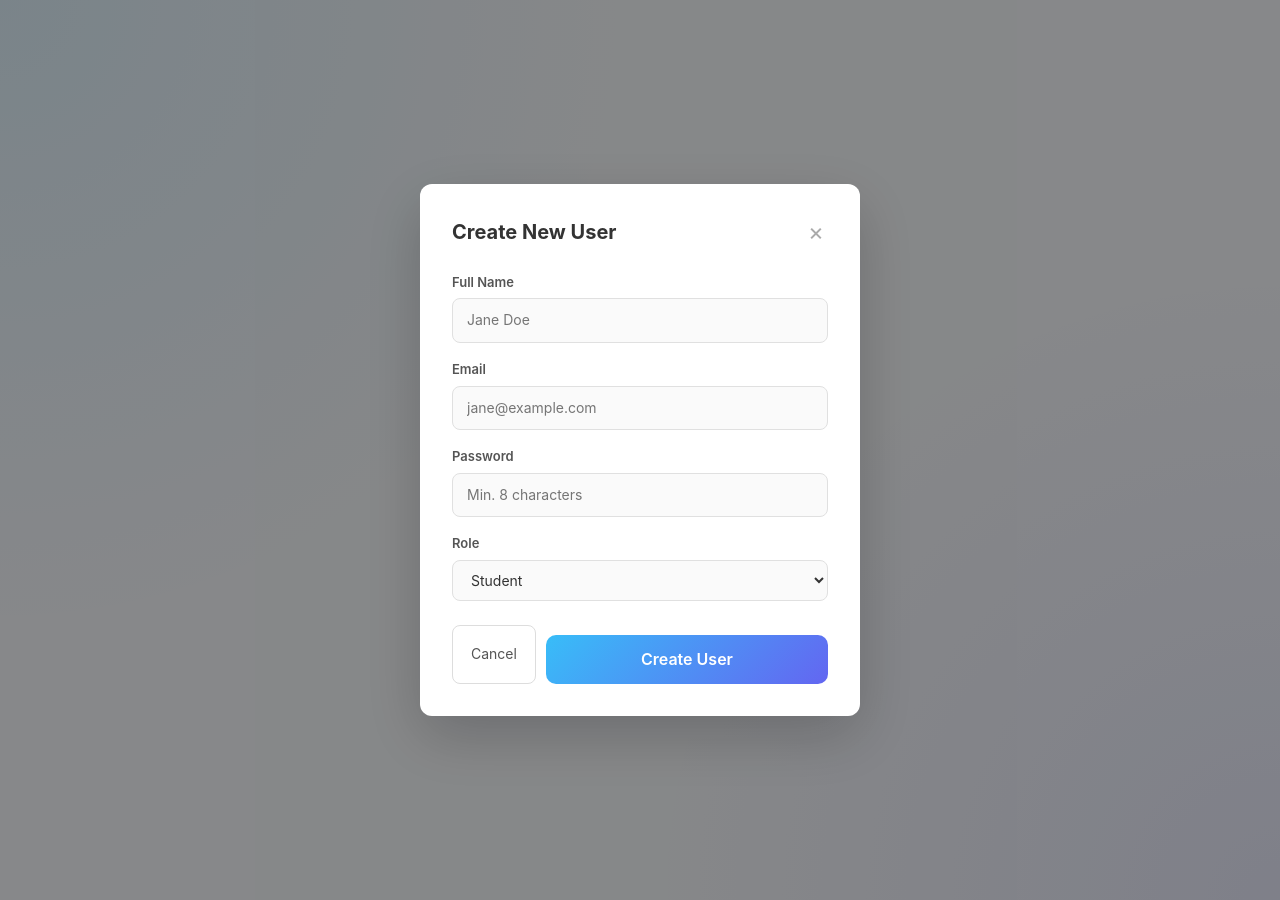
Scenario: CreateUserModal › inline validation (on blur) › clears the name error once the user types a valid name
trigger error
Click the field labelled "Full Name": {"x": 640, "y": 320} [452, 298, 828, 343]
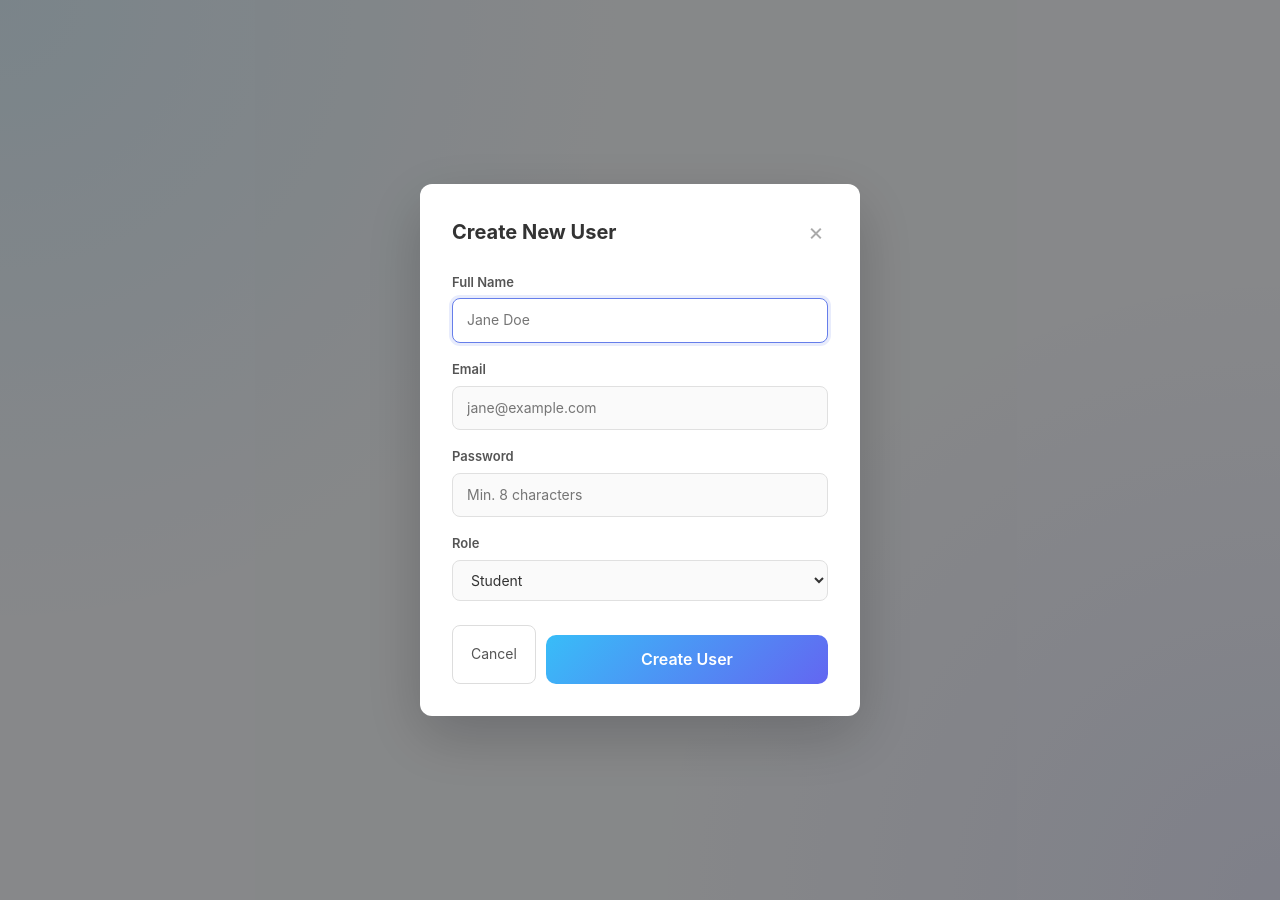
Press Tab
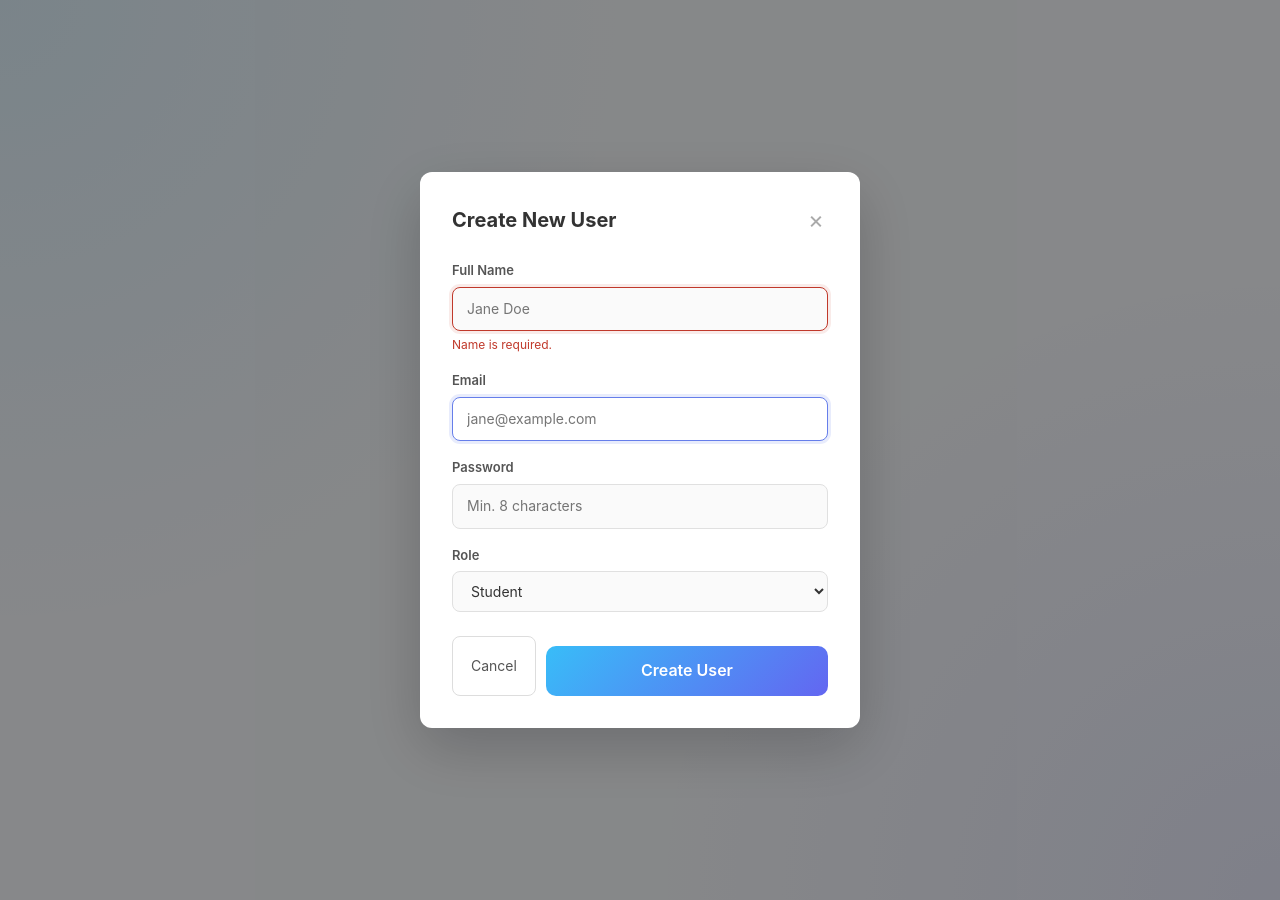
Expected: the text "Name is required." is shown, [452, 337, 552, 352]
In the field labelled "Full Name": {"x": 640, "y": 309} [452, 287, 828, 331], type "Jane"
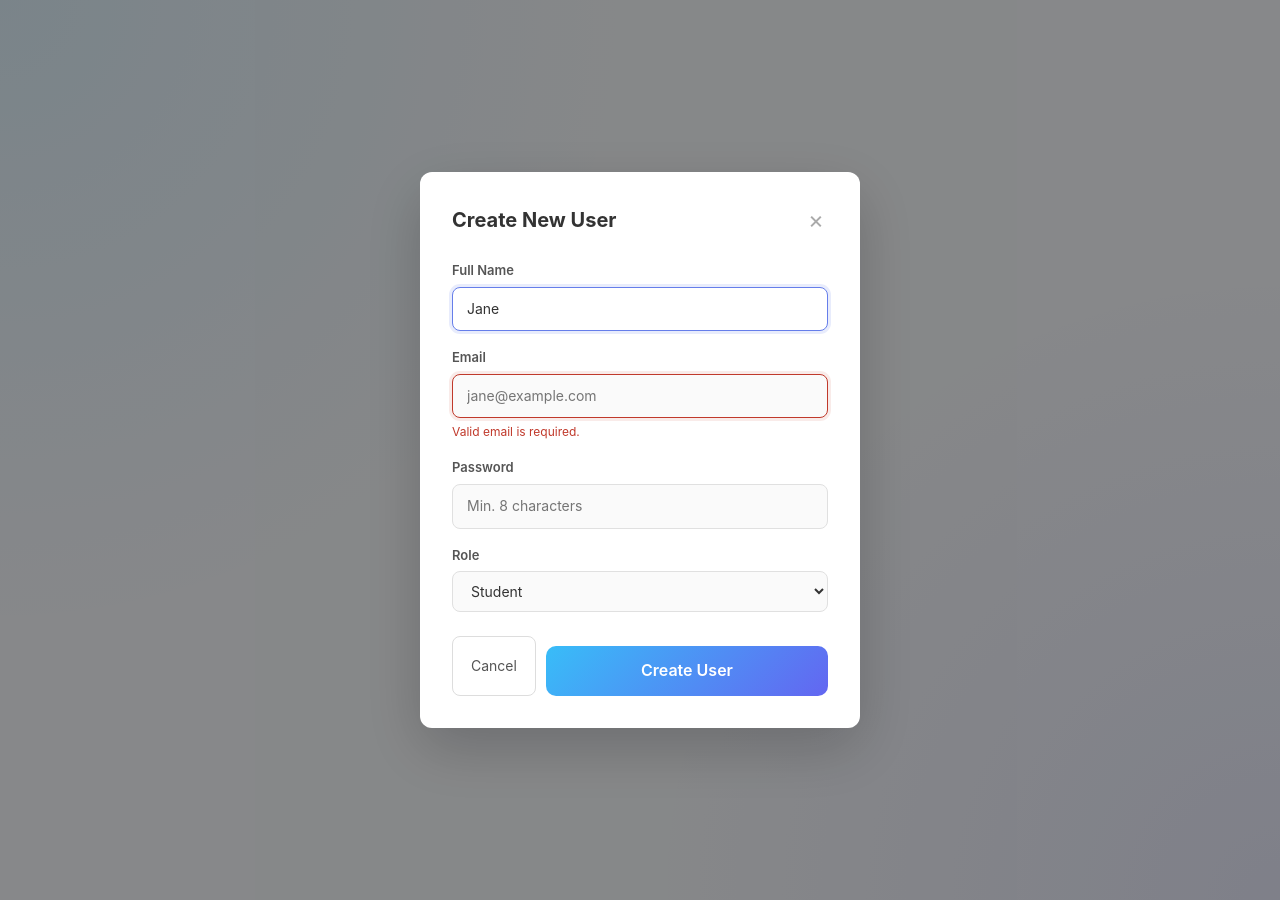
Expected: the text "Name is required." is gone
